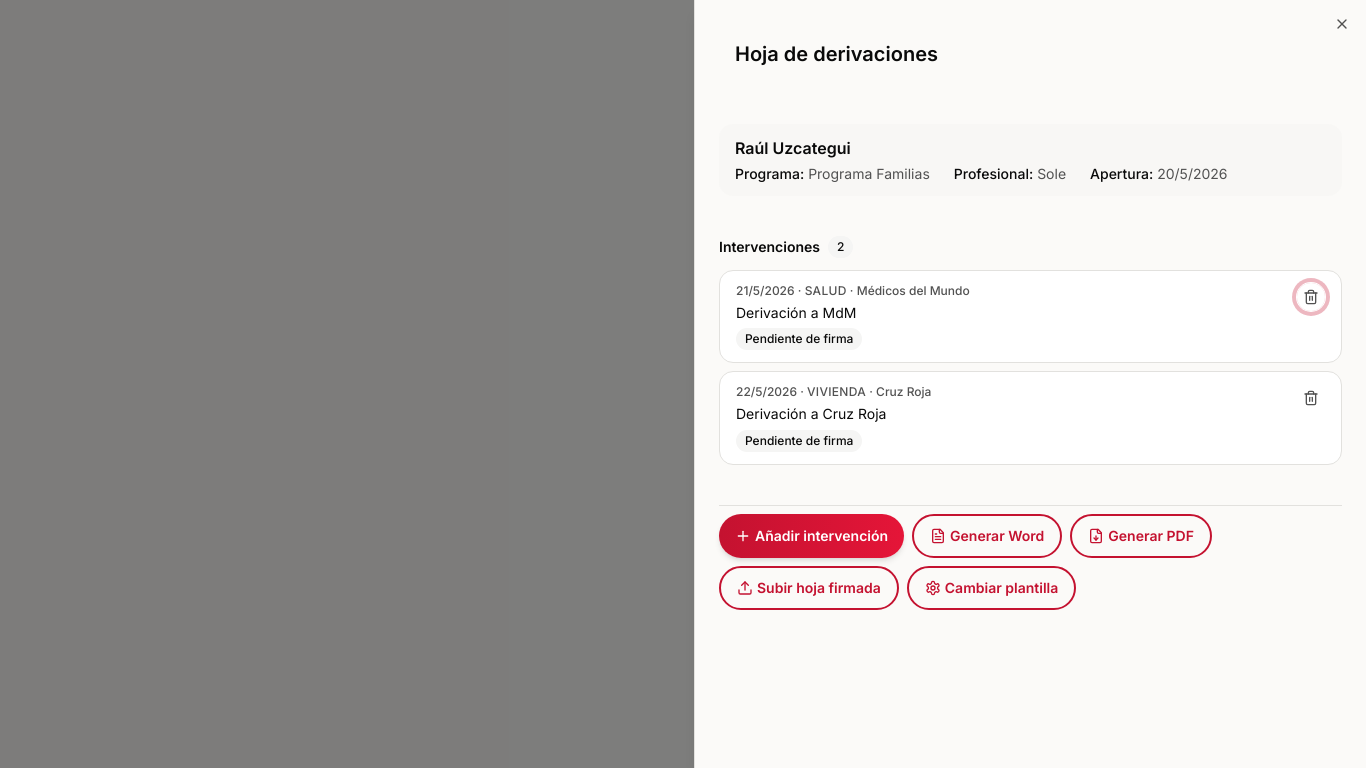
Scenario: HojaDrawer — PDF preview modal (Batch 20: blob URL via <object>) › shows a preview modal with loading spinner when 'Generar Word' is clicked
The width and height of the screenshot is (1366, 768).
Step 1. Click the button "Generar Word" → (987, 536), box [912, 514, 1062, 558]
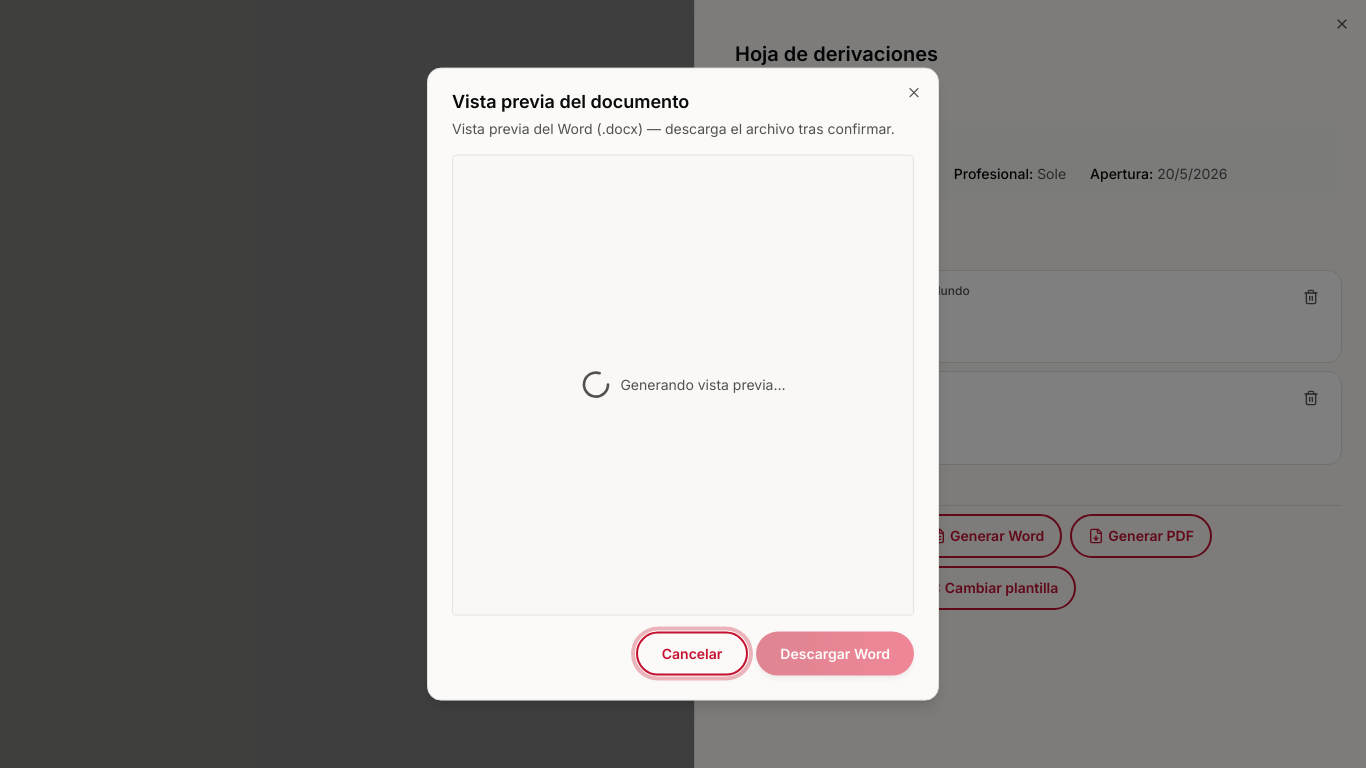
Result: the dialog "Vista previa" is shown at [427, 68, 939, 700]
Result: the element named "cargando vista previa" is shown at [453, 156, 913, 614]
